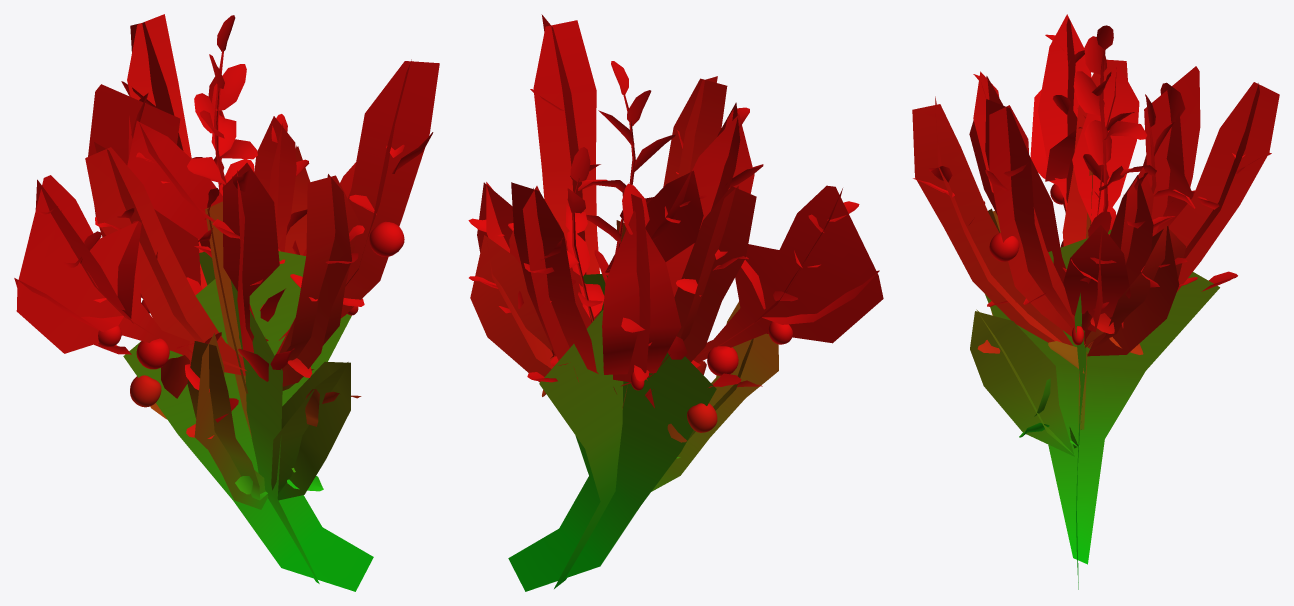
The model's file is Bilberry_LOD0_Var1_vldufeiha.fbx.
The picture shows the model from 3 angles, left to right: view 1: azimuth 30°, elevation 25°; view 2: azimuth 150°, elevation 25°; view 3: azimuth 270°, elevation 25°; orthographic projection. The views are drawn at different scales.
Parts seen in each view (by area): view 1: _x4yf_Var1_LOD0; view 2: _x4yf_Var1_LOD0; view 3: _x4yf_Var1_LOD0.
Boxes of the visible parts, box(x1,y1,x2,y2) form: _x4yf_Var1_LOD0: box(14, 14, 439, 591); _x4yf_Var1_LOD0: box(468, 14, 883, 591); _x4yf_Var1_LOD0: box(912, 14, 1279, 589).
Bounding box in the file's own units: 14.58 × 20.86 × 13.34.
